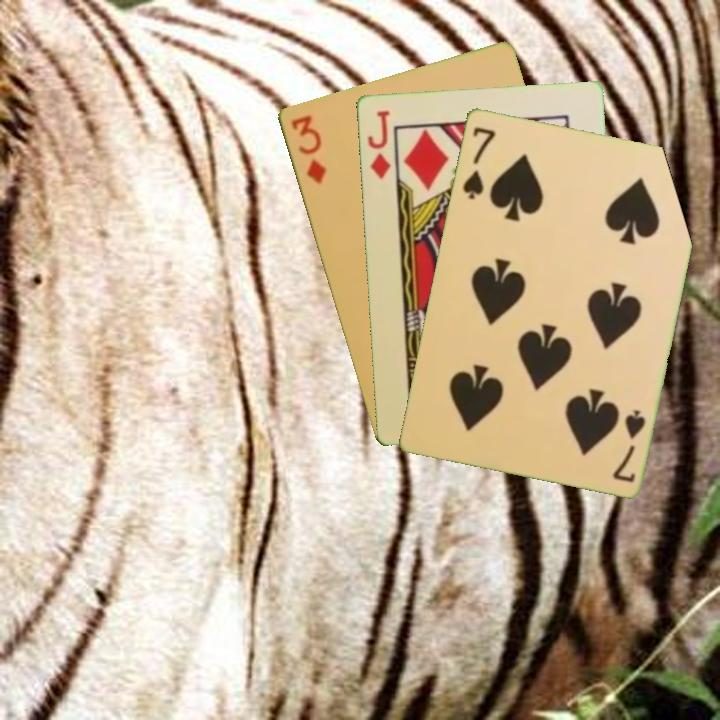3d: (287, 110, 329, 187)
7s: (458, 123, 498, 202), (609, 405, 648, 485)
Jd: (364, 107, 394, 182)
